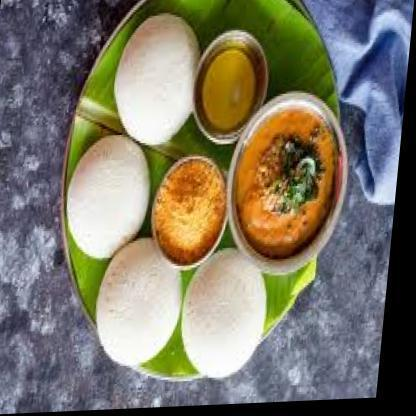idli: (98, 239, 193, 369), (183, 252, 276, 384), (111, 14, 203, 147), (65, 137, 156, 262)
